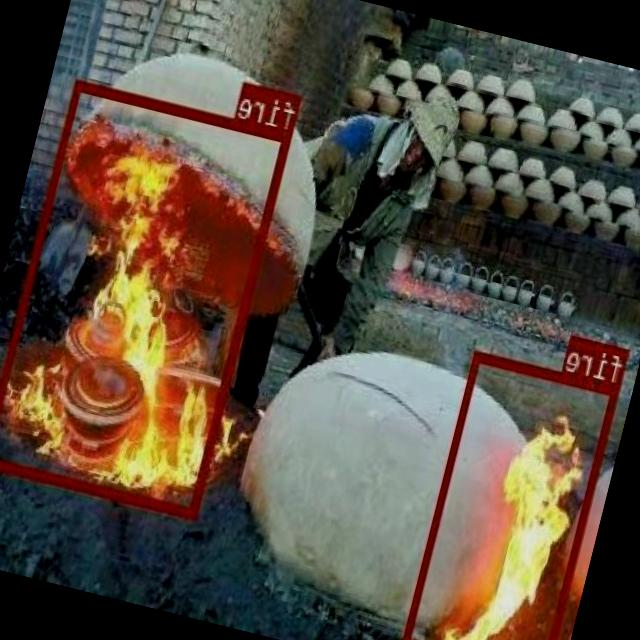fire: (0, 77, 293, 518), (402, 350, 621, 640)
